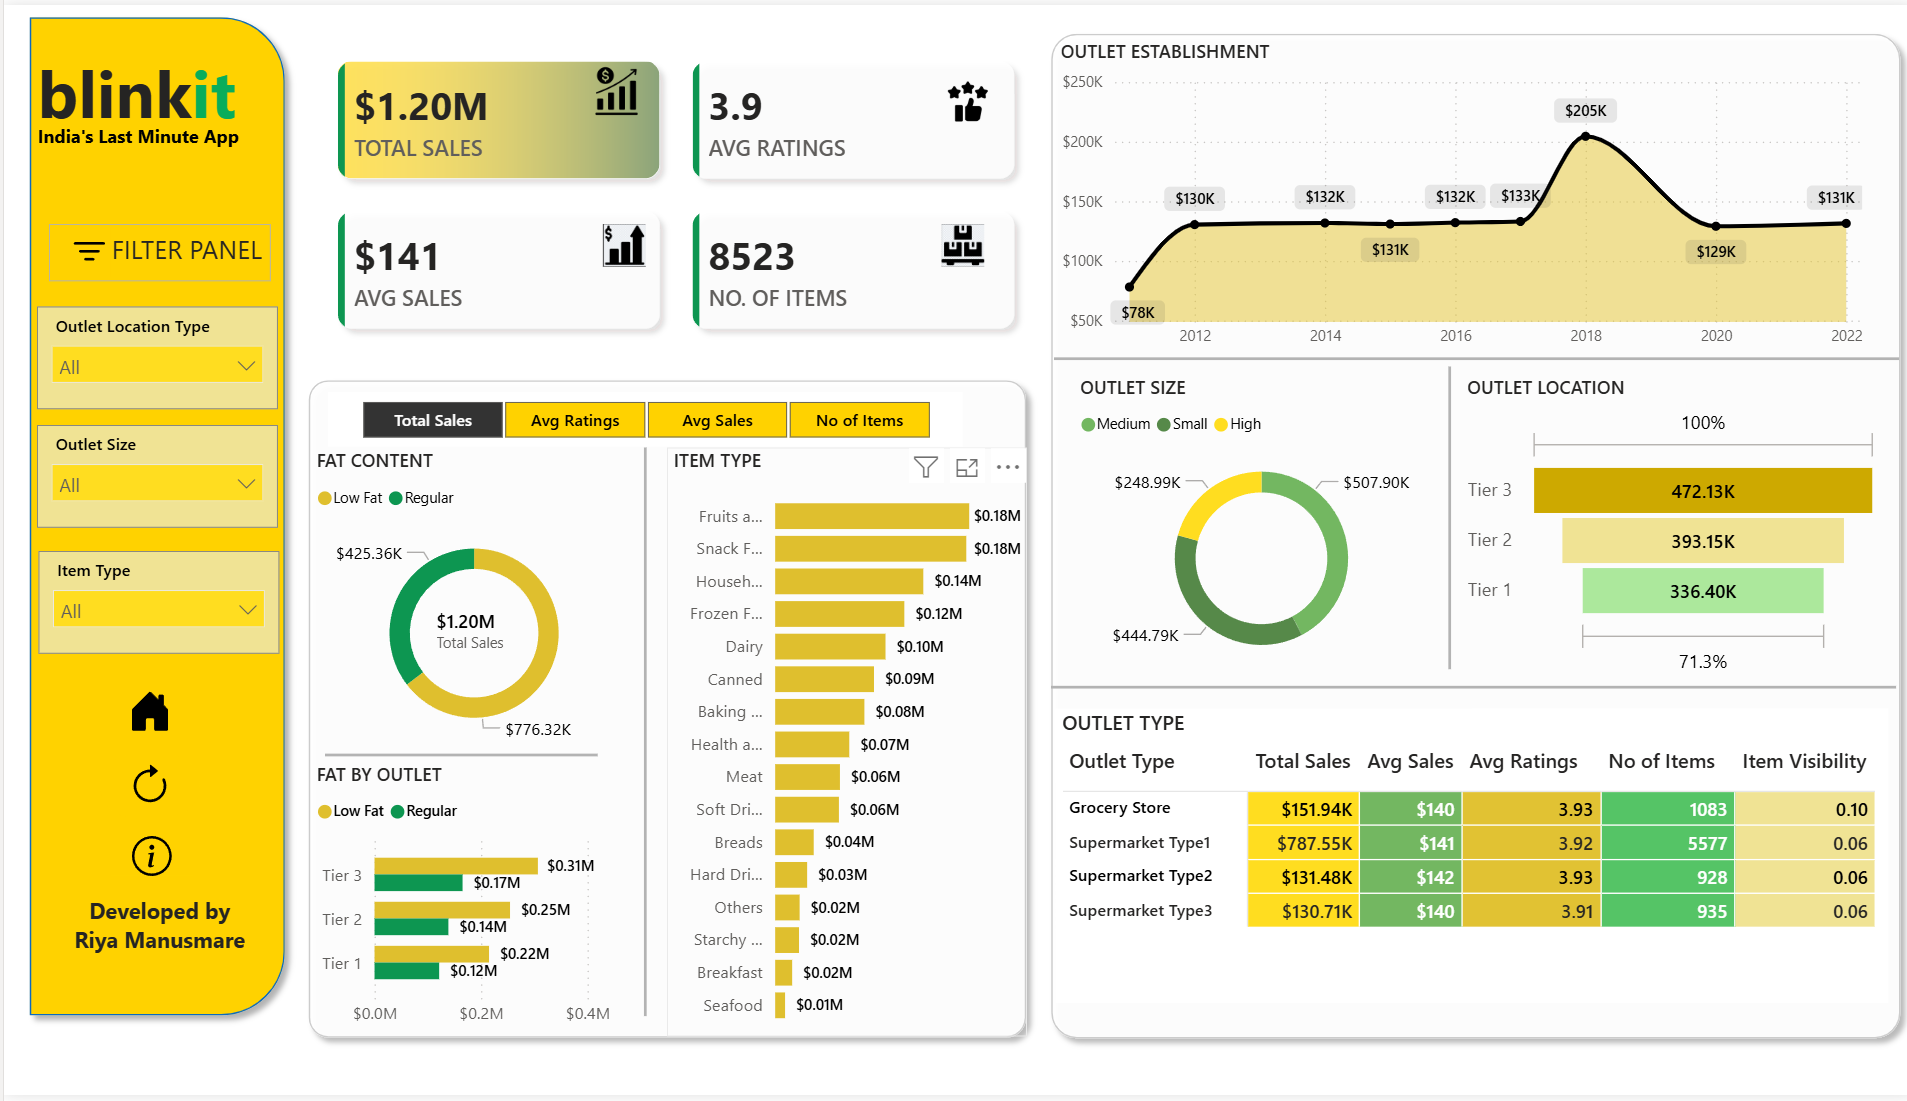

What the dashboard file says about the page in this screenshot:
{"tool":"powerbi","page":{"name":"Page 1","canvas":[1400,800],"ordinal":0},"visuals":[{"type":"shape","box":[10.1,0,205,750],"z":0},{"type":"textbox","box":[19.9,24.9,194.1,82.1],"z":1000},{"type":"textbox","box":[20,81.8,187.7,31.8],"z":2000},{"type":"cardVisual","fields":{"Data":["BlinkIT Grocery Data.Total Sales","BlinkIT Grocery Data.Avg Ratings","BlinkIT Grocery Data.Avg Sales","BlinkIT Grocery Data.No of Items"]},"box":[215.1,11.6,555.8,254.7],"z":3000},{"type":"shape","box":[215,266,544,500],"z":4000},{"type":"donutChart","title":"FAT CONTENT","fields":{"Y":["BlinkIT Grocery Data.Total Sales"],"Category":["BlinkIT Grocery Data.Item Fat Content"]},"box":[224,324,240,227],"z":5000},{"type":"slicer","fields":{"Values":["Metrics.Metrics"]},"box":[238,284,465,40],"z":6000},{"type":"cardVisual","fields":{"Data":["BlinkIT Grocery Data.Total Sales"]},"box":[288,418,122,80],"z":7000},{"type":"clusteredBarChart","title":"FAT BY OUTLET","fields":{"Y":["BlinkIT Grocery Data.Total Sales"],"Category":["BlinkIT Grocery Data.Outlet Location Type"],"Series":["BlinkIT Grocery Data.Item Fat Content"]},"box":[224,554,230,203],"z":8000},{"type":"shape","box":[235,534,200,33],"z":9000},{"type":"shape","box":[454,324,32,417],"z":10000},{"type":"barChart","title":"ITEM TYPE","fields":{"Y":["BlinkIT Grocery Data.Total Sales"],"Category":["BlinkIT Grocery Data.Item Type"]},"box":[486,324,264,433],"z":11000},{"type":"shape","box":[759.3,11.6,640.7,754.7],"z":12000},{"type":"lineChart","title":"OUTLET ESTABLISHMENT","fields":{"Category":["BlinkIT Grocery Data.Outlet Establishment Year"],"Y":["BlinkIT Grocery Data.Total Sales"]},"box":[769.8,24.4,597.7,234.9],"z":13000},{"type":"shape","box":[769.8,243,619.8,32.6],"z":14000},{"type":"donutChart","title":"OUTLET SIZE","fields":{"Y":["BlinkIT Grocery Data.Total Sales"],"Category":["BlinkIT Grocery Data.Outlet Size"]},"box":[784.9,270.9,275,225],"z":15000},{"type":"funnel","title":"OUTLET LOCATION","fields":{"Y":["Sum(BlinkIT Grocery Data.Sales)"],"Category":["BlinkIT Grocery Data.Outlet Location Type"]},"box":[1068.6,270.9,311.6,225.6],"z":16000},{"type":"pivotTable","title":"OUTLET TYPE","fields":{"Rows":["BlinkIT Grocery Data.Outlet Type"],"Values":["BlinkIT Grocery Data.Total Sales","BlinkIT Grocery Data.Avg Sales","BlinkIT Grocery Data.Avg Ratings","BlinkIT Grocery Data.No of Items","Avg(BlinkIT Grocery Data.Item Visibility)"]},"box":[770.9,516.3,610.5,216.3],"z":17000},{"type":"shape","box":[1044.2,265.1,32.6,222.1],"z":18000},{"type":"shape","box":[767.4,483.7,619.8,32.6],"z":19000},{"type":"slicer","fields":{"Values":["BlinkIT Grocery Data.Outlet Location Type"]},"box":[24.4,220.9,176.7,75.6],"z":20000},{"type":"slicer","fields":{"Values":["BlinkIT Grocery Data.Outlet Size"]},"box":[24.4,308.1,176.7,75.6],"z":21000},{"type":"slicer","fields":{"Values":["BlinkIT Grocery Data.Item Type"]},"box":[25.6,400,176.7,75.6],"z":22000},{"type":"image","box":[687.2,55.8,38.4,29.1],"z":23000},{"type":"image","box":[427.9,45.3,43,36],"z":24000},{"type":"image","box":[434.9,160.5,40.7,31.4],"z":25000},{"type":"image","box":[687.2,160.5,31.4,31.4],"z":26000},{"type":"textbox","box":[33,160.6,162.8,41.8],"z":27000},{"type":"actionButton","box":[70.9,550,73.3,45.3],"z":28000},{"type":"actionButton","box":[70.9,501.2,73.3,32.6],"z":29000},{"type":"actionButton","box":[77.9,609.3,60.5,29.1],"z":30000},{"type":"textbox","box":[36,647.7,155.8,59.3],"z":31000},{"type":"actionButton","box":[47.3,163.9,30.8,35.2],"z":31001}]}

Visuals, with their boxes in screenshot pixels (x1, y1, x2, y2), scaled from the page's 1400x800 canvas onto the 1907x1101 screenshot:
shape: (x1=14, y1=0, x2=293, y2=1032)
textbox: (x1=27, y1=34, x2=291, y2=147)
textbox: (x1=27, y1=113, x2=283, y2=156)
cardVisual - BlinkIT Grocery Data.Total Sales x BlinkIT Grocery Data.Avg Ratings: (x1=293, y1=16, x2=1050, y2=366)
shape: (x1=293, y1=366, x2=1034, y2=1054)
"FAT CONTENT" donutChart: (x1=305, y1=446, x2=632, y2=758)
slicer - Metrics.Metrics: (x1=324, y1=391, x2=958, y2=446)
cardVisual - BlinkIT Grocery Data.Total Sales: (x1=392, y1=575, x2=558, y2=685)
"FAT BY OUTLET" clusteredBarChart: (x1=305, y1=762, x2=618, y2=1042)
shape: (x1=320, y1=735, x2=593, y2=780)
shape: (x1=618, y1=446, x2=662, y2=1020)
"ITEM TYPE" barChart: (x1=662, y1=446, x2=1022, y2=1042)
shape: (x1=1034, y1=16, x2=1906, y2=1055)
"OUTLET ESTABLISHMENT" lineChart: (x1=1049, y1=34, x2=1863, y2=357)
shape: (x1=1049, y1=334, x2=1893, y2=379)
"OUTLET SIZE" donutChart: (x1=1069, y1=373, x2=1444, y2=682)
"OUTLET LOCATION" funnel: (x1=1456, y1=373, x2=1880, y2=683)
"OUTLET TYPE" pivotTable: (x1=1050, y1=711, x2=1882, y2=1008)
shape: (x1=1422, y1=365, x2=1467, y2=671)
shape: (x1=1045, y1=666, x2=1890, y2=711)
slicer - BlinkIT Grocery Data.Outlet Location Type: (x1=33, y1=304, x2=274, y2=408)
slicer - BlinkIT Grocery Data.Outlet Size: (x1=33, y1=424, x2=274, y2=528)
slicer - BlinkIT Grocery Data.Item Type: (x1=35, y1=550, x2=276, y2=655)
image: (x1=936, y1=77, x2=988, y2=117)
image: (x1=583, y1=62, x2=641, y2=112)
image: (x1=592, y1=221, x2=648, y2=264)
image: (x1=936, y1=221, x2=979, y2=264)
textbox: (x1=45, y1=221, x2=267, y2=279)
actionButton: (x1=97, y1=757, x2=196, y2=819)
actionButton: (x1=97, y1=690, x2=196, y2=735)
actionButton: (x1=106, y1=839, x2=189, y2=879)
textbox: (x1=49, y1=891, x2=261, y2=973)
actionButton: (x1=64, y1=226, x2=106, y2=274)
